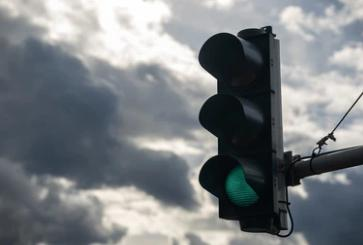green_light: (198, 28, 279, 220)
